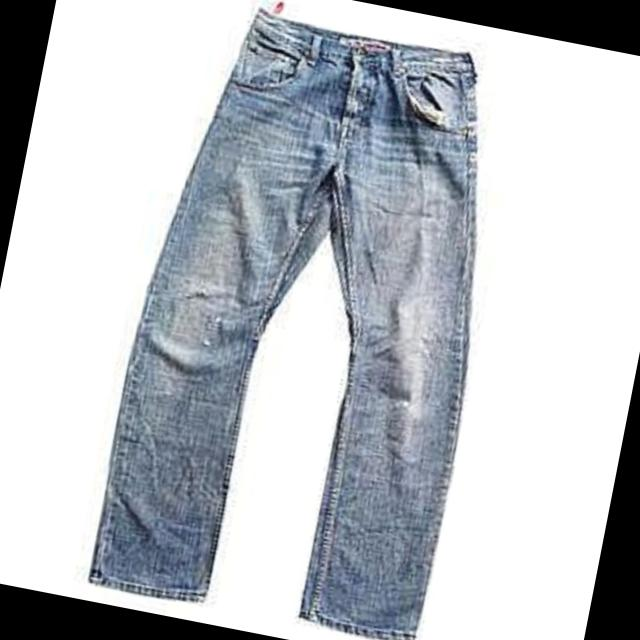TROUSER: (75, 3, 534, 640)
